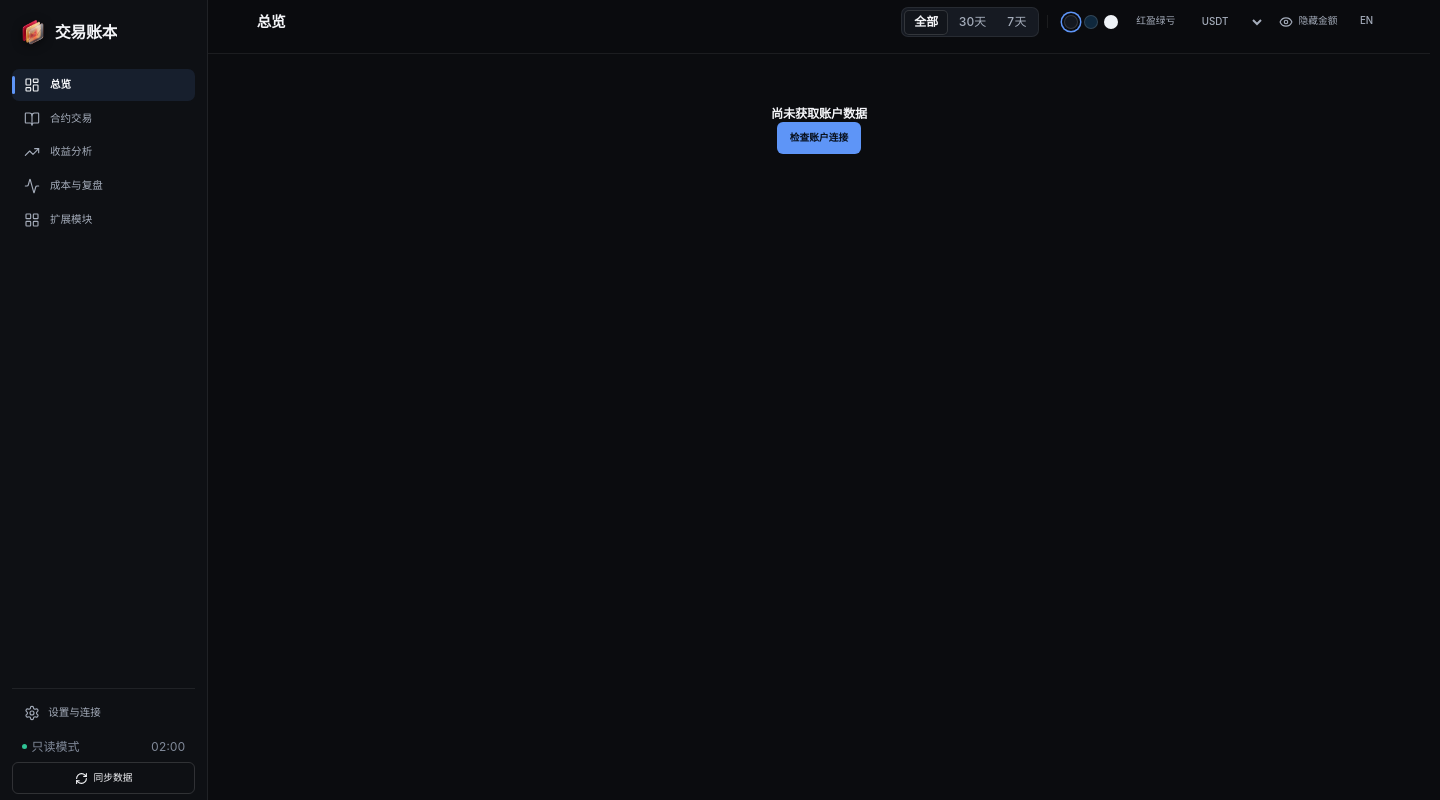
Test: Warnings, Partial Sync Banners, Sub-Account Onboarding & AuthGate Preferences › shows a connection check for an existing account awaiting its first readable snapshot
Click the button "检查账户连接": (819, 138) [777,122,861,154]
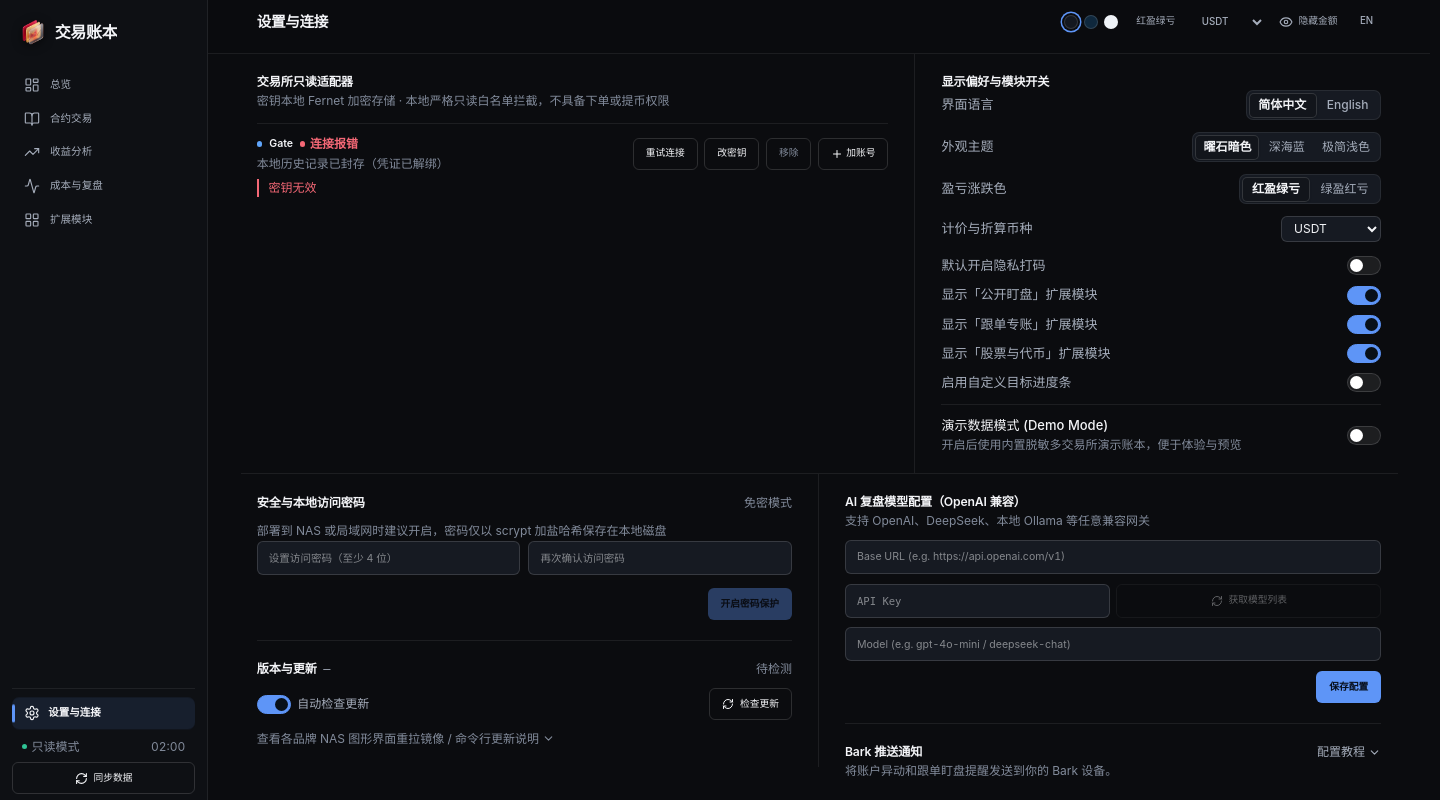
Click the button "重试连接": (665, 154) [633,138,698,170]
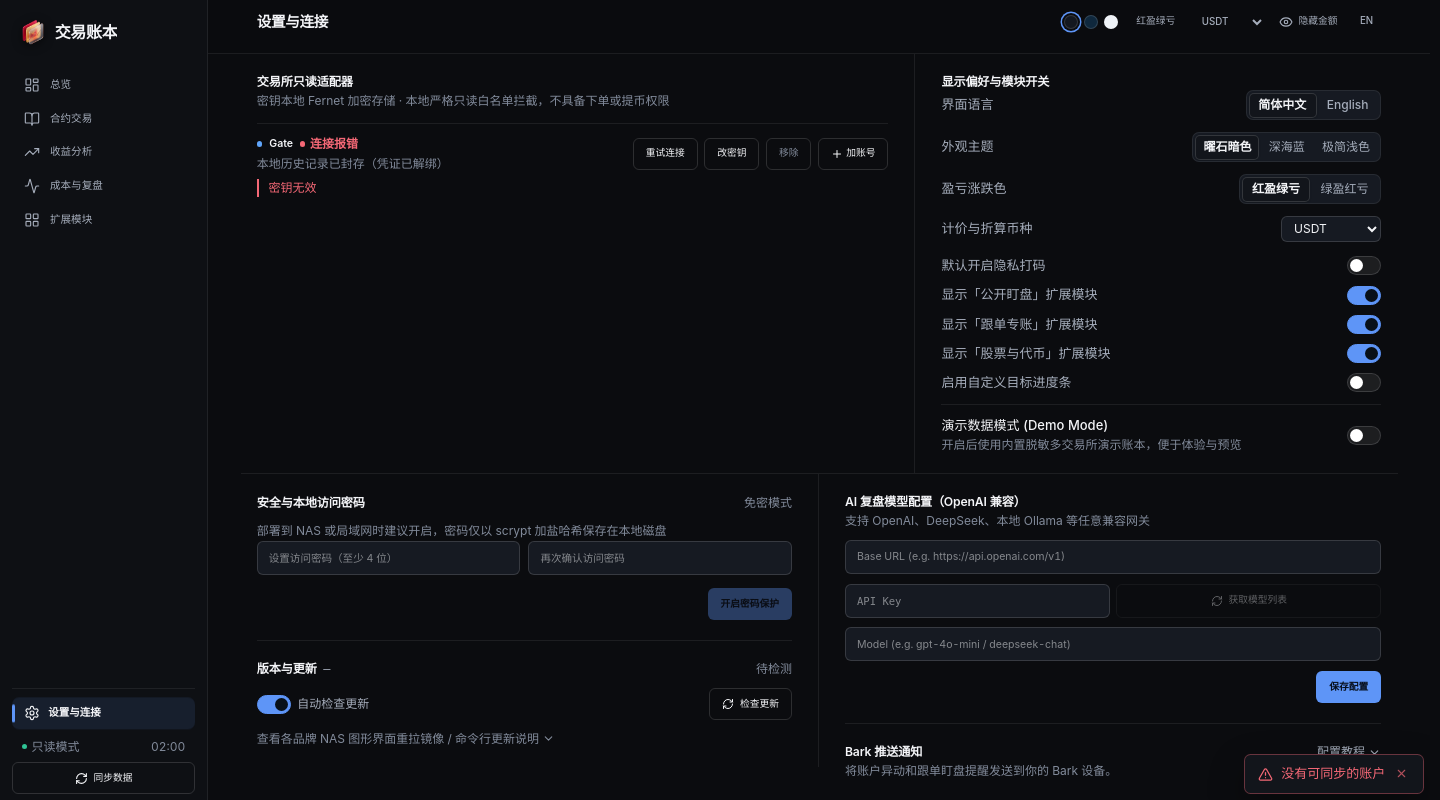
Expected: the text "没有可同步的账户" is shown, [1281,765,1385,783]
